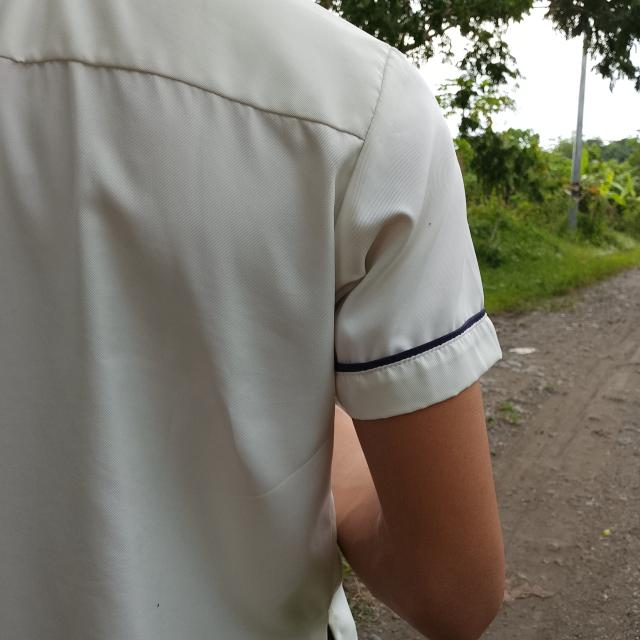education_male_uniform: (15, 0, 531, 640)
